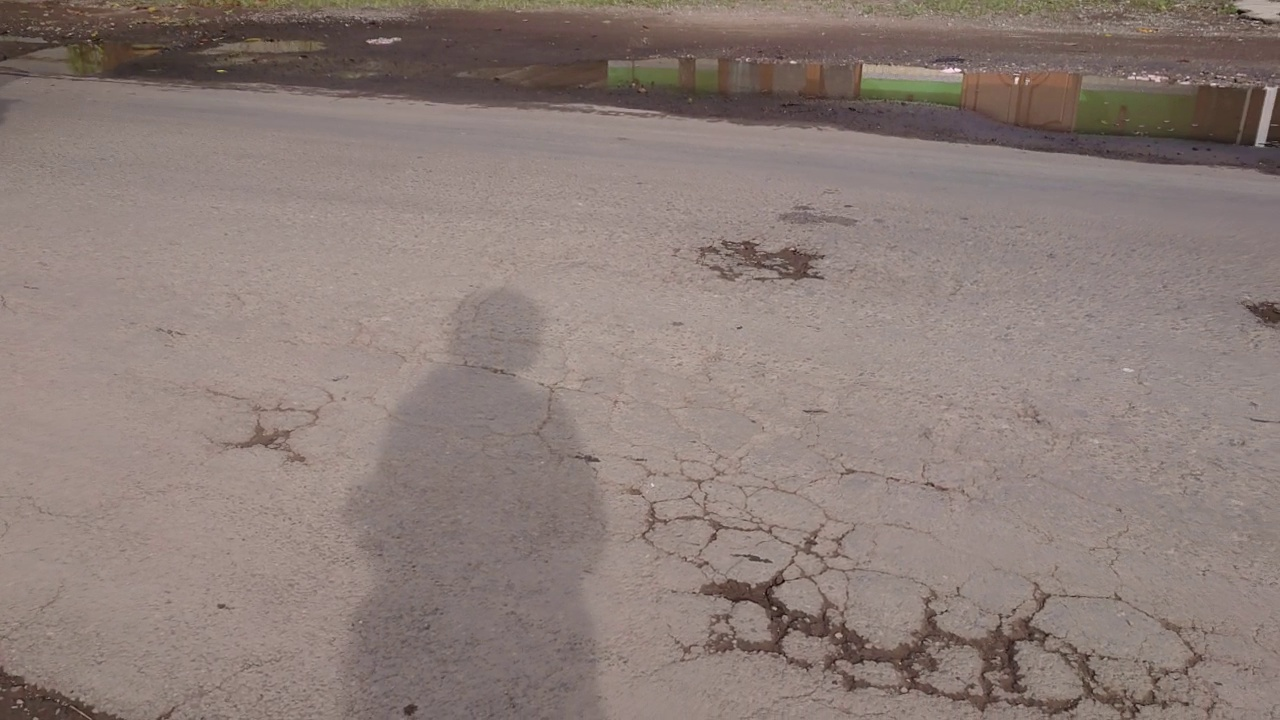Retak: (657, 450, 1209, 720), (699, 232, 832, 283), (231, 388, 316, 467)
